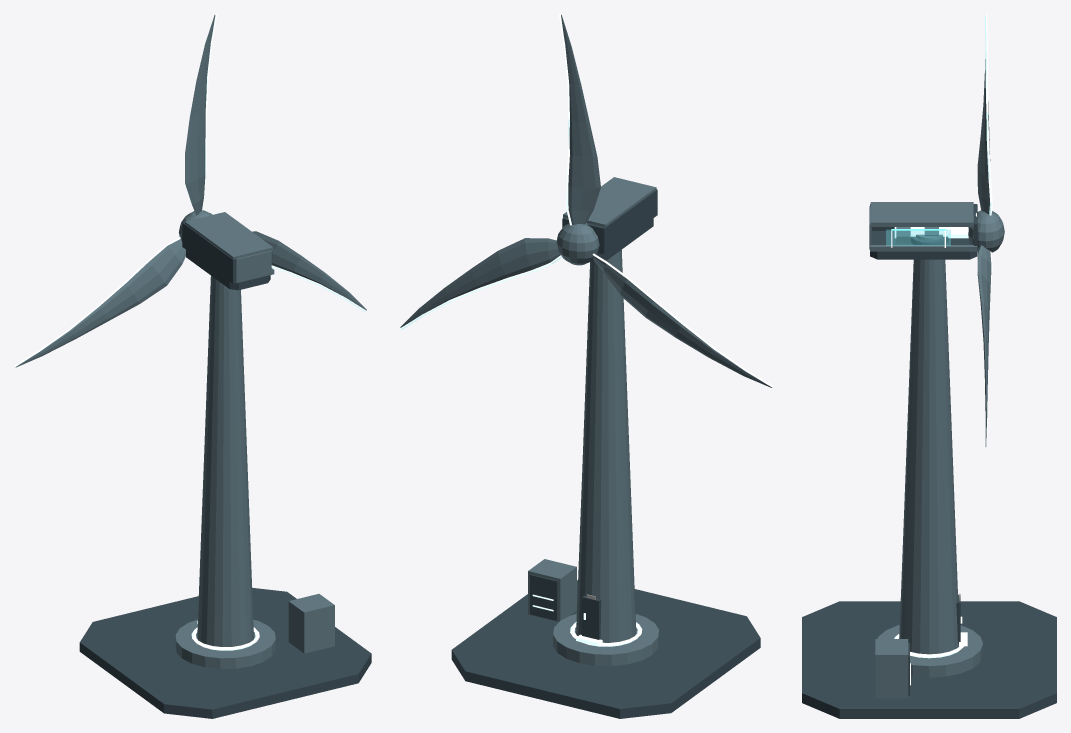
File: wind_turbine.lod1.glb
3 renders of one model, left to right at view 1: azimuth 30°, elevation 25°; view 2: azimuth 150°, elevation 25°; view 3: azimuth 270°, elevation 25°, orthographic. The views are drawn at different scales.
Parts seen in each view (by area): view 1: wind_turbine_graphite_light.001, wind_turbine_graphite.001, wind_turbine_white.001; view 2: wind_turbine_graphite_light.001, wind_turbine_graphite.001, wind_turbine_white.001; view 3: wind_turbine_graphite_light.001, wind_turbine_graphite.001, wind_turbine_white.001, wind_turbine_glass.001.
Part boxes in pixels (box(x1,y1,x2,y2)): wind_turbine_graphite_light.001: box(15, 15, 366, 668); wind_turbine_graphite.001: box(79, 222, 371, 718); wind_turbine_white.001: box(14, 14, 366, 650); wind_turbine_graphite_light.001: box(400, 14, 771, 666); wind_turbine_graphite.001: box(451, 189, 760, 718); wind_turbine_white.001: box(400, 14, 773, 646); wind_turbine_graphite_light.001: box(869, 59, 1004, 698); wind_turbine_graphite.001: box(802, 204, 1056, 718); wind_turbine_white.001: box(891, 14, 992, 685); wind_turbine_glass.001: box(886, 230, 950, 245).
Size of the model in its own units: 14.95 by 25.11 by 8.8.
